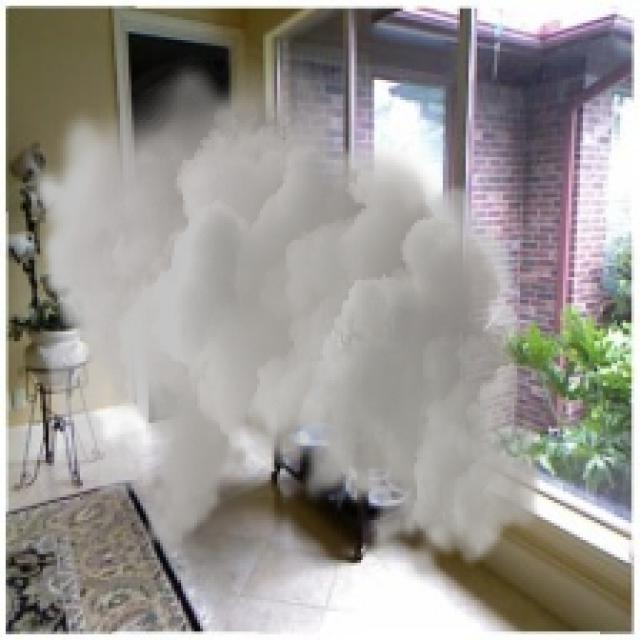Smoke: (28, 43, 546, 586)
